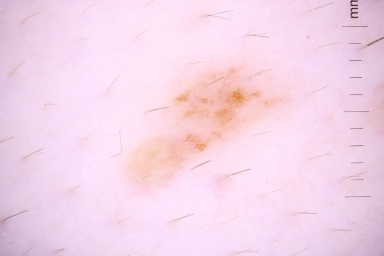nevus: (125, 65, 280, 193)
